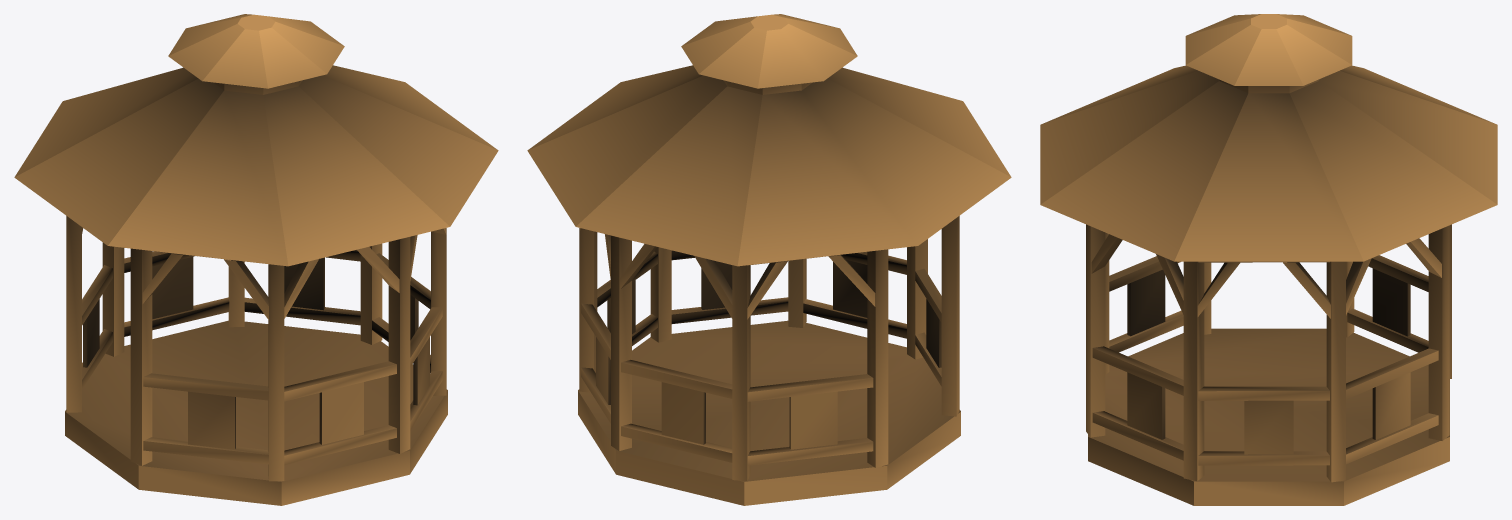
The model's file is gazerbo.fbx.
3 views of the same model, side by side, from view 1: azimuth 30°, elevation 25°; view 2: azimuth 150°, elevation 25°; view 3: azimuth 270°, elevation 25° (orthographic).
Parts seen in each view (by area): view 1: gazebo; view 2: gazebo; view 3: gazebo.
Part boxes in pixels (bbox=[...]): gazebo: bbox=[14, 14, 498, 505]; gazebo: bbox=[527, 14, 1011, 505]; gazebo: bbox=[1040, 14, 1497, 505].
Bounding box in the file's own units: 335 × 329 × 335.
